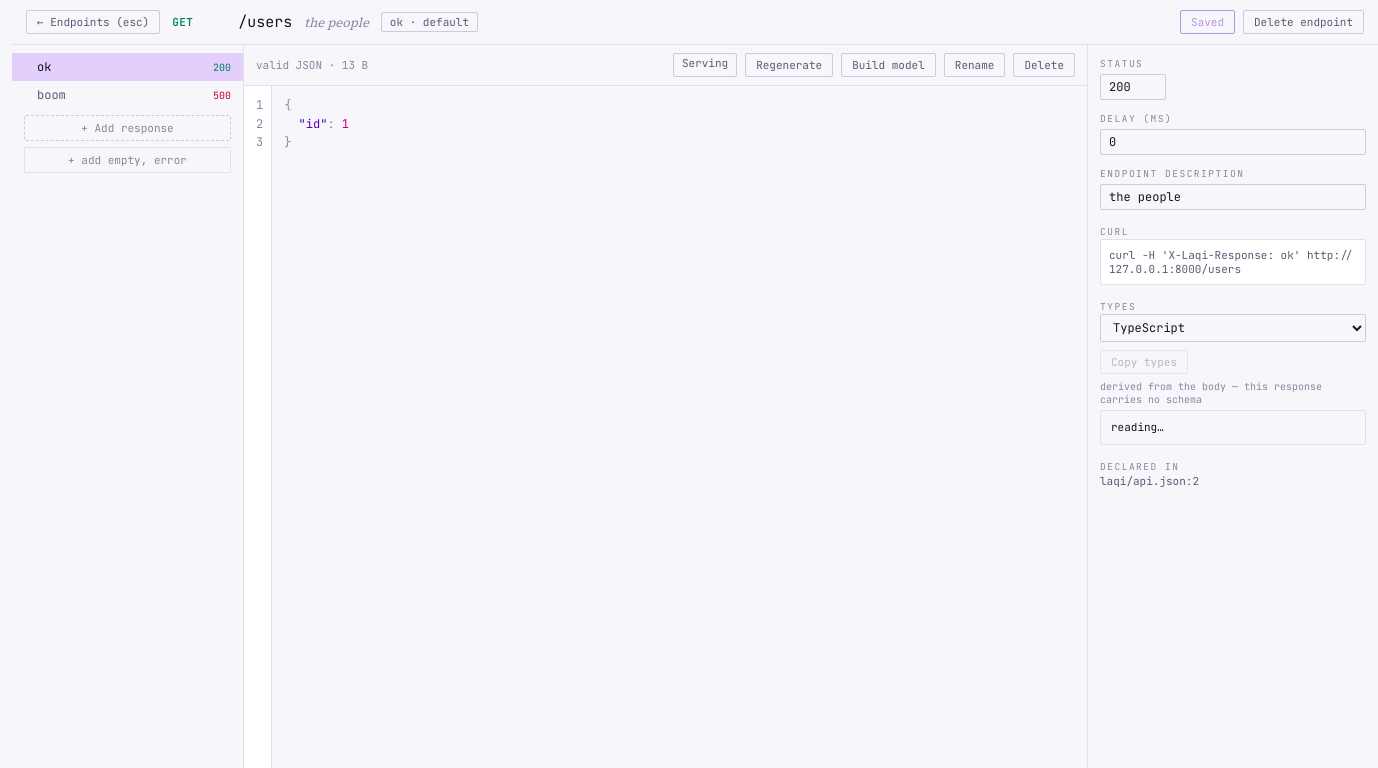
building a model from a body that has no schema › drafts the model from the body and writes nothing yet
Click the button "Build model".
click(888, 65)  # box [841,53,936,77]
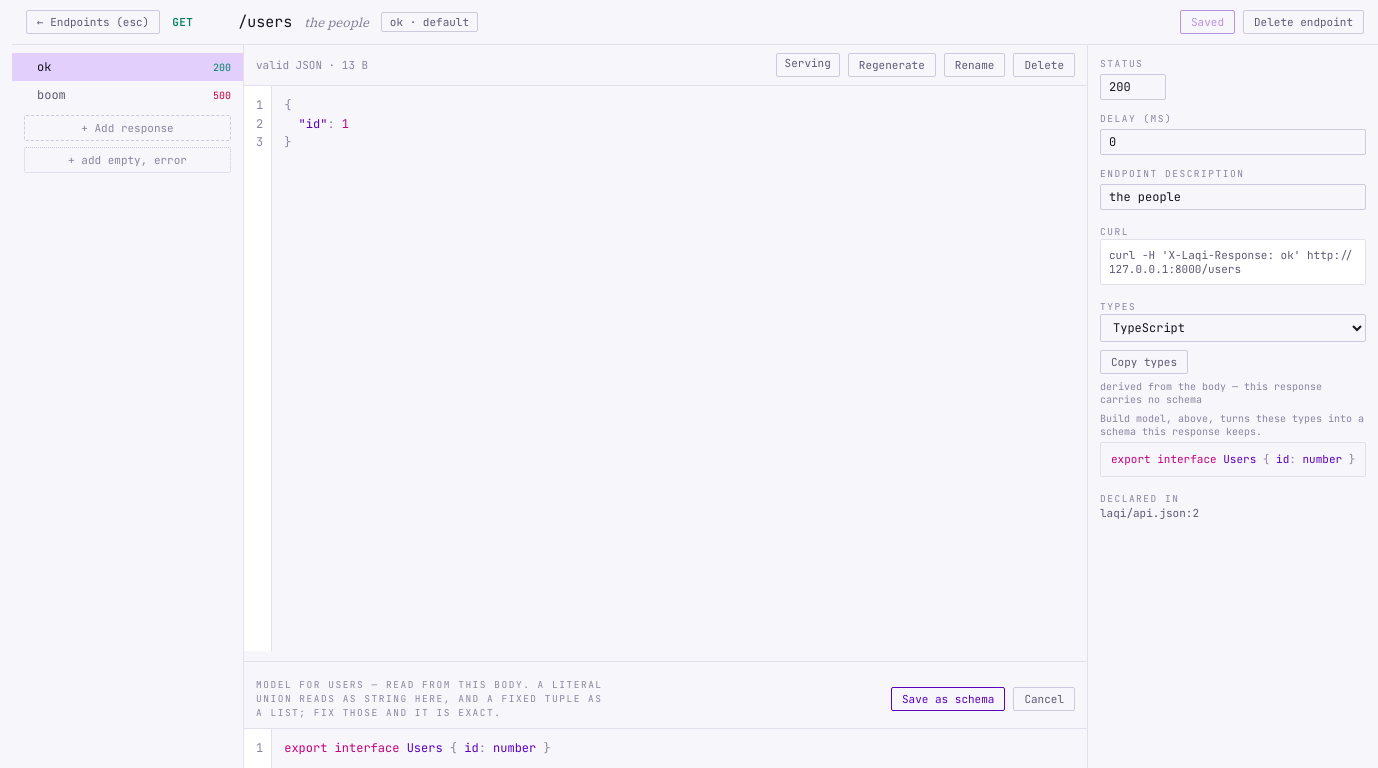
expect the text box named "model" is shown: met, box [272,729,1087,767]
